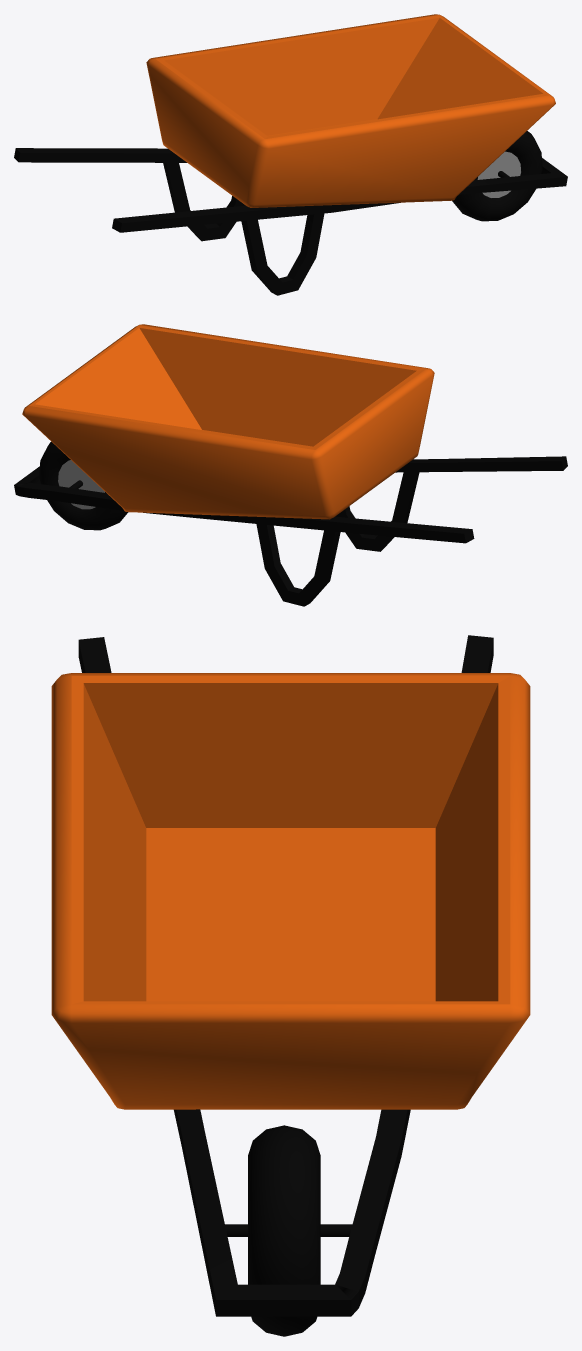
The model's file is wheelbarrow.obj.
3 views of the same model, one above another, from view 1: azimuth 30°, elevation 25°; view 2: azimuth 150°, elevation 25°; view 3: azimuth 270°, elevation 25° (orthographic). The views are drawn at different scales.
Parts seen in each view (by area): view 1: ChamferBox001; view 2: ChamferBox001; view 3: ChamferBox001.
Boxes of the visible parts, x1,y1,x2,y2 form: ChamferBox001: (14, 14, 567, 295); ChamferBox001: (14, 324, 567, 606); ChamferBox001: (51, 635, 530, 1336).
Size of the model in its own units: 94.88 by 35.02 by 40.45.
